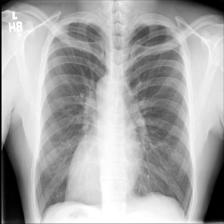normal: (31, 16, 196, 218)
